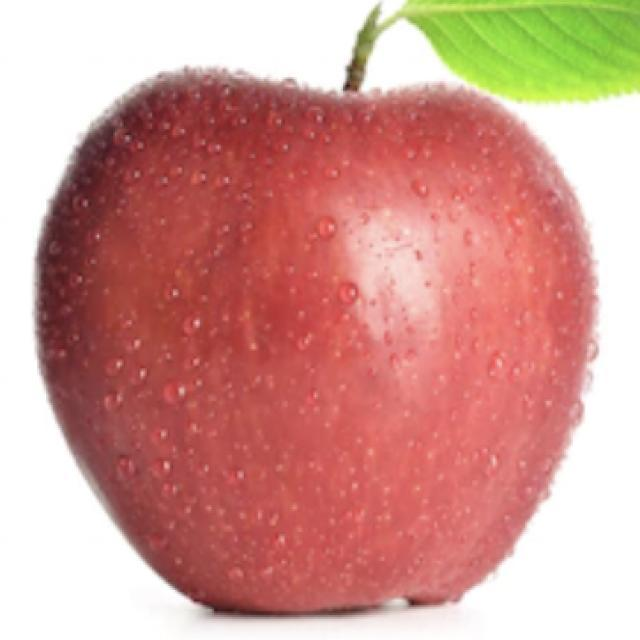Fresh Apple: (56, 67, 586, 610)
